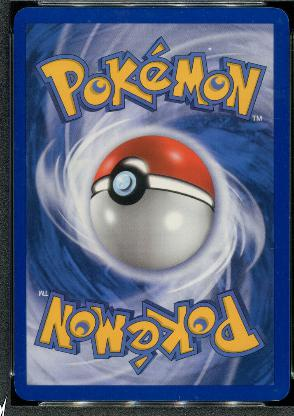Card: (10, 6, 292, 404)
Corner Wear: (12, 379, 19, 395)
Scratch: (266, 244, 276, 250)
